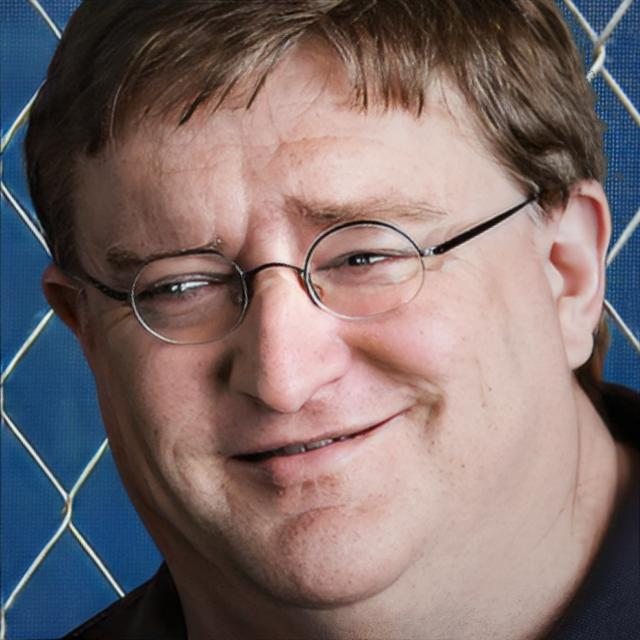content: (69, 39, 544, 610)
